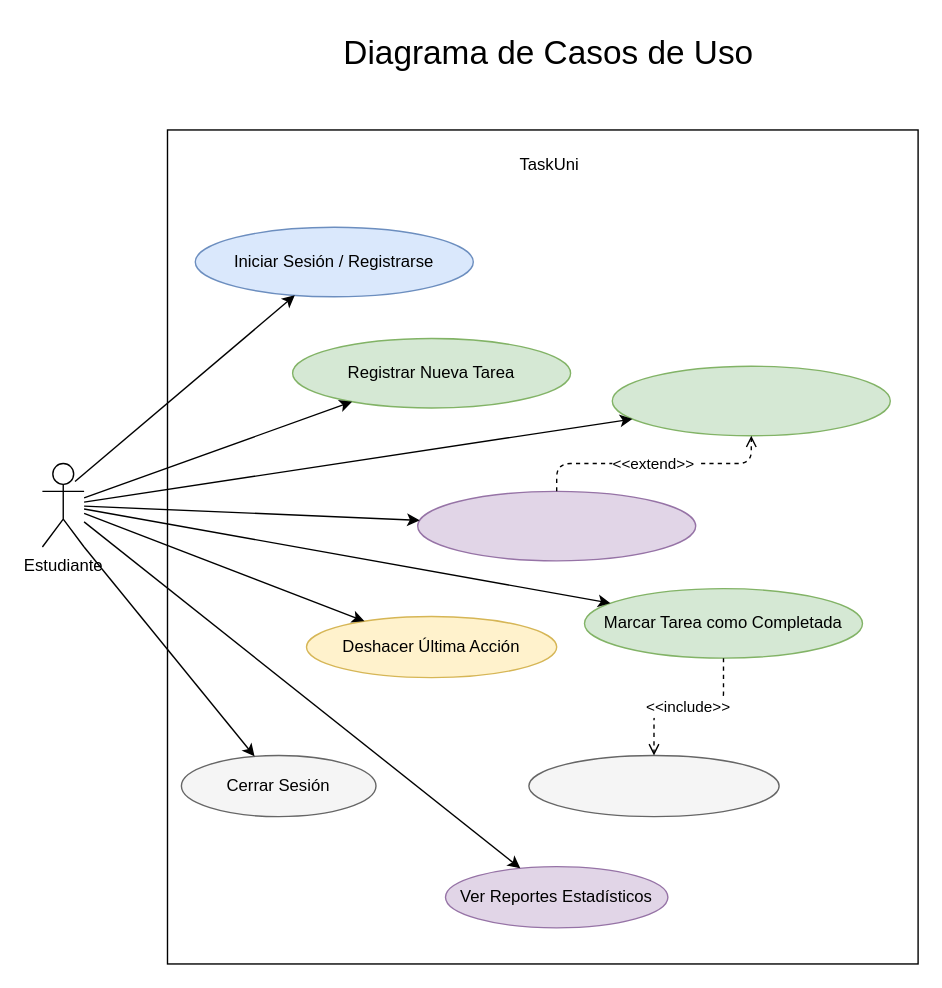
The diagram is 942 pixels wide and 988 high, and some of its shapes have lost their labels. The shapes that lost their labels are listed below. From the top down, each one's box as (x1, y1, x2, y2) in pixels, then its label:
(611, 365, 890, 436): Ver Lista de Tareas (Dashboard)
(416, 490, 696, 561): Simular Paso de un Día
(528, 754, 779, 817): Actualizar AVL y Pila
